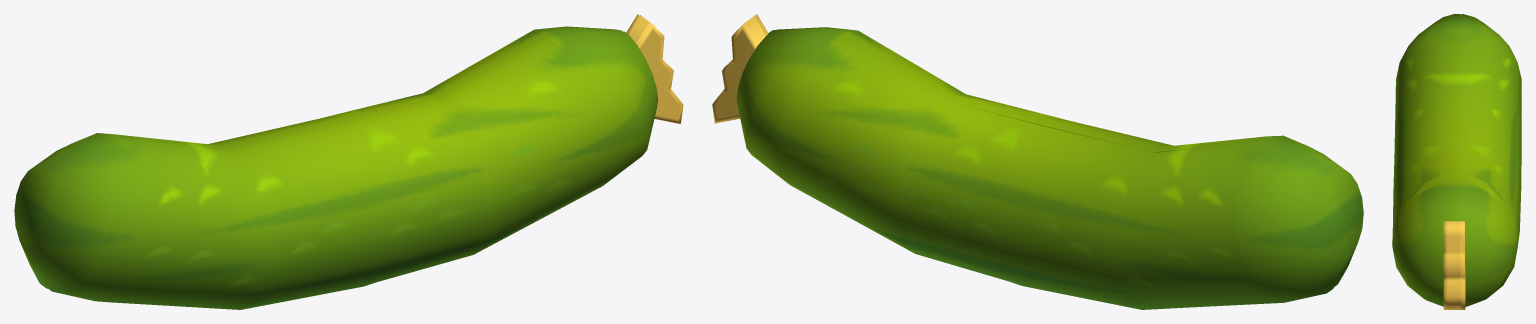
The model's file is green_cucumber.glb.
The picture shows the model from 3 angles, left to right: view 1: azimuth 30°, elevation 25°; view 2: azimuth 150°, elevation 25°; view 3: azimuth 270°, elevation 25°; orthographic projection. The views are drawn at different scales.
Parts seen in each view (by area): view 1: green_cucumber; view 2: green_cucumber; view 3: green_cucumber.
Boxes of the visible parts, bbox=[...] form: green_cucumber: bbox=[14, 14, 683, 309]; green_cucumber: bbox=[712, 14, 1363, 309]; green_cucumber: bbox=[1392, 14, 1521, 309].
Size of the model in its own units: 1.01 by 0.2934 by 0.2402.
1 material, 1 textured.
